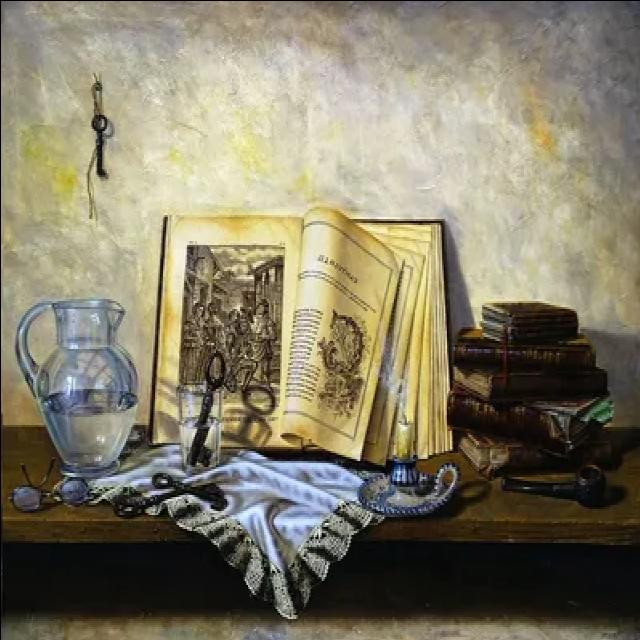book: (137, 200, 458, 472)
